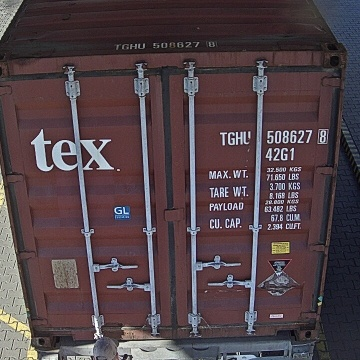serial_id: (220, 129, 328, 144)
